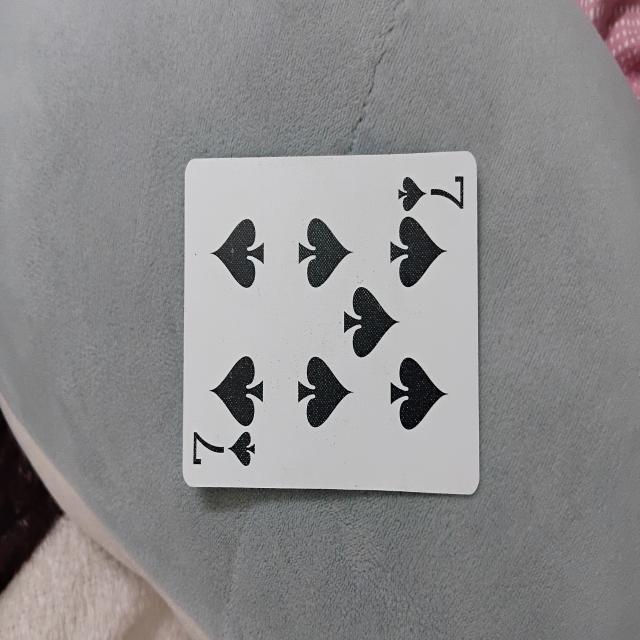7S: (187, 161, 488, 492)
